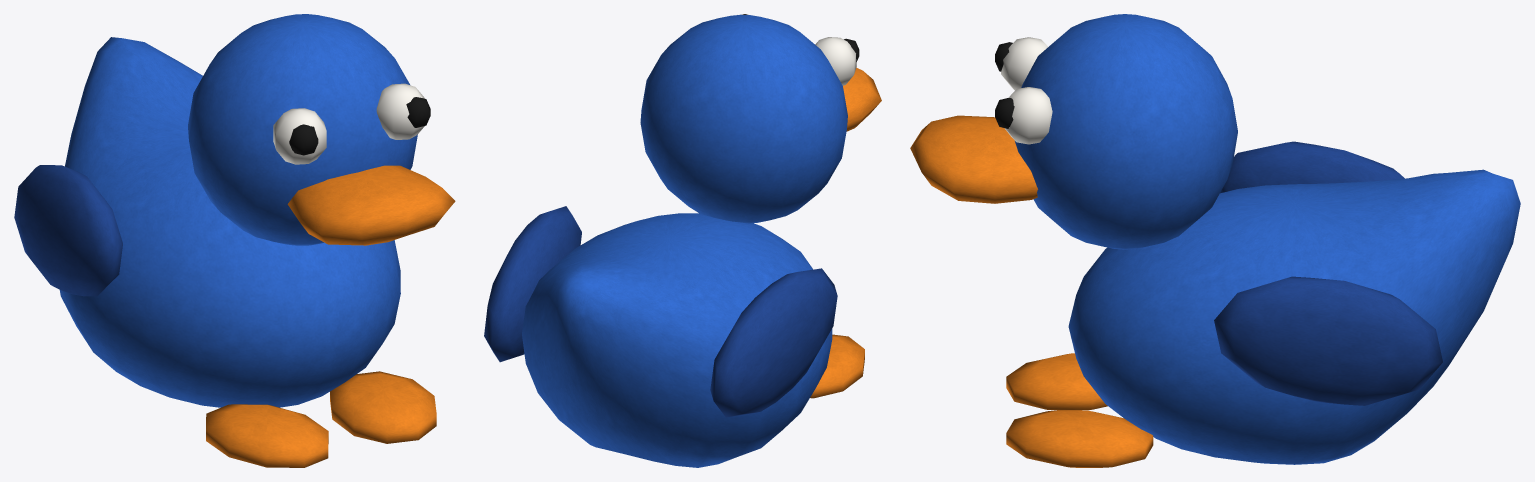
File: toy_duck.gltf
3 views of the same model, side by side, from view 1: azimuth 30°, elevation 25°; view 2: azimuth 150°, elevation 25°; view 3: azimuth 270°, elevation 25° (orthographic). The views are drawn at different scales.
Visible parts, largest first — view 1: toy_duck; view 2: toy_duck; view 3: toy_duck.
Boxes of the visible parts, x1=… form: toy_duck: x1=14, y1=14, x2=455, y2=467; toy_duck: x1=484, y1=14, x2=881, y2=467; toy_duck: x1=910, y1=14, x2=1520, y2=467.
Bounding box in the file's own units: 0.3349 × 0.395 × 0.54.
Materials: 5 (3 with a texture image).
